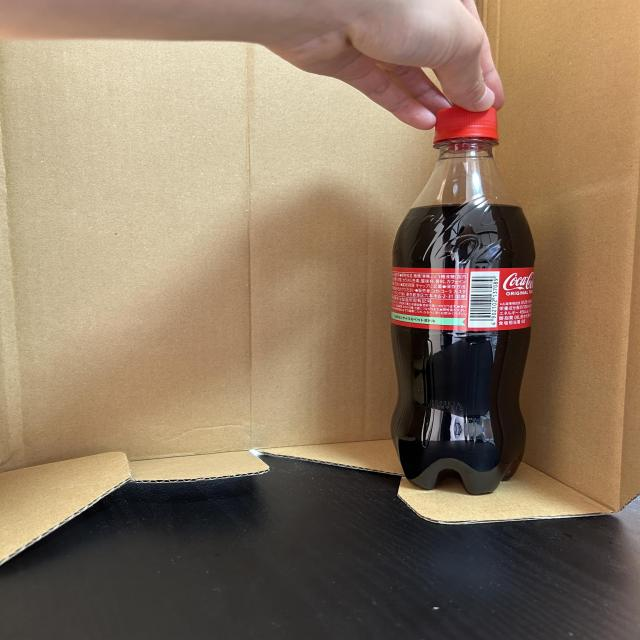high: (390, 108, 535, 494)
